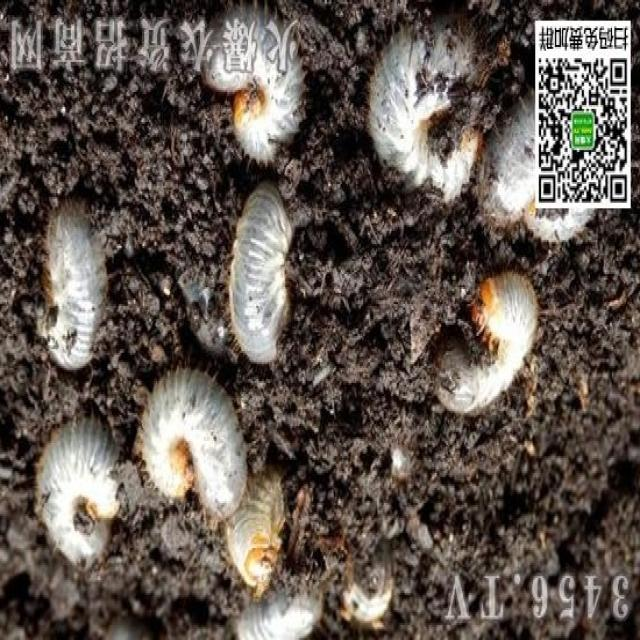grub: (361, 23, 482, 205), (143, 365, 255, 530), (201, 17, 311, 161), (432, 260, 536, 410), (25, 414, 121, 575), (222, 182, 304, 364), (36, 205, 110, 376)
